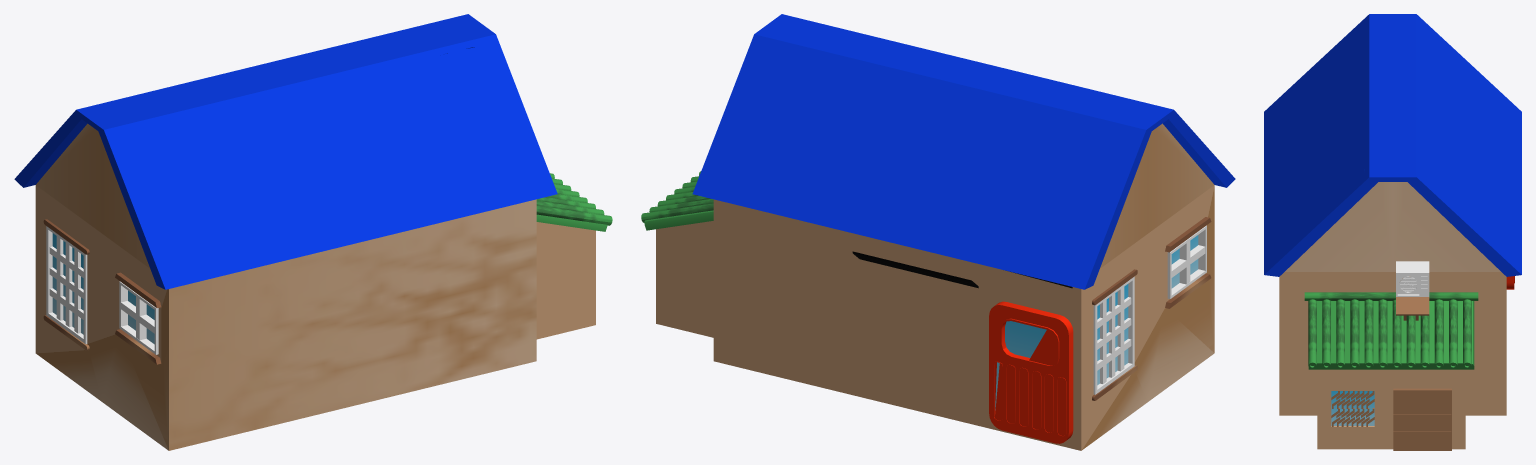
File: house8.fbx
3 views of the same model, side by side, from view 1: azimuth 30°, elevation 25°; view 2: azimuth 150°, elevation 25°; view 3: azimuth 270°, elevation 25° (orthographic). The views are drawn at different scales.
Parts seen in each view (by area): view 1: Cube.066; view 2: Cube.066, Cube.068; view 3: Cube.066.
Boxes of the visible parts, box(x1,y1,x2,y2) form: Cube.066: box(14, 14, 612, 450); Cube.066: box(641, 14, 1235, 450); Cube.068: box(989, 301, 1073, 443); Cube.066: box(1264, 14, 1521, 450).
Bounding box in the file's own units: 759 × 437 × 420.
Materials: 8 (4 with a texture image).
